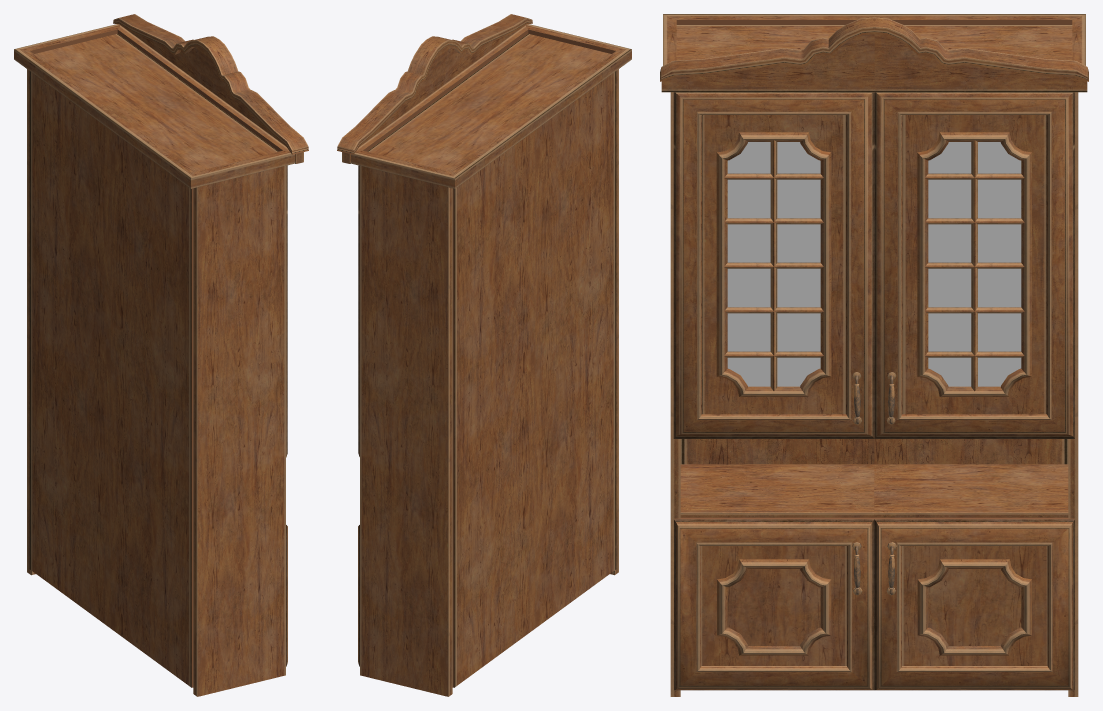
Rendered from Cabinet_03.fbx.
The picture shows the model from 3 angles, left to right: view 1: azimuth 30°, elevation 25°; view 2: azimuth 150°, elevation 25°; view 3: azimuth 270°, elevation 25°; orthographic projection. The views are drawn at different scales.
Parts seen in each view (by area): view 1: Cabinet_03, 03door_01; view 2: Cabinet_03, 03door_02; view 3: Cabinet_03, 03door_01, 03door_02.
Part boxes in pixels (box(x1,y1,x2,y2)): Cabinet_03: box(14, 14, 308, 696); 03door_01: box(286, 165, 287, 457); Cabinet_03: box(337, 14, 631, 696); 03door_02: box(358, 165, 359, 456); Cabinet_03: box(660, 14, 1088, 696); 03door_01: box(673, 92, 874, 438); 03door_02: box(874, 92, 1074, 438).
Size of the model in its own units: 64.45 by 300 by 171.
3 materials, 2 textured.
